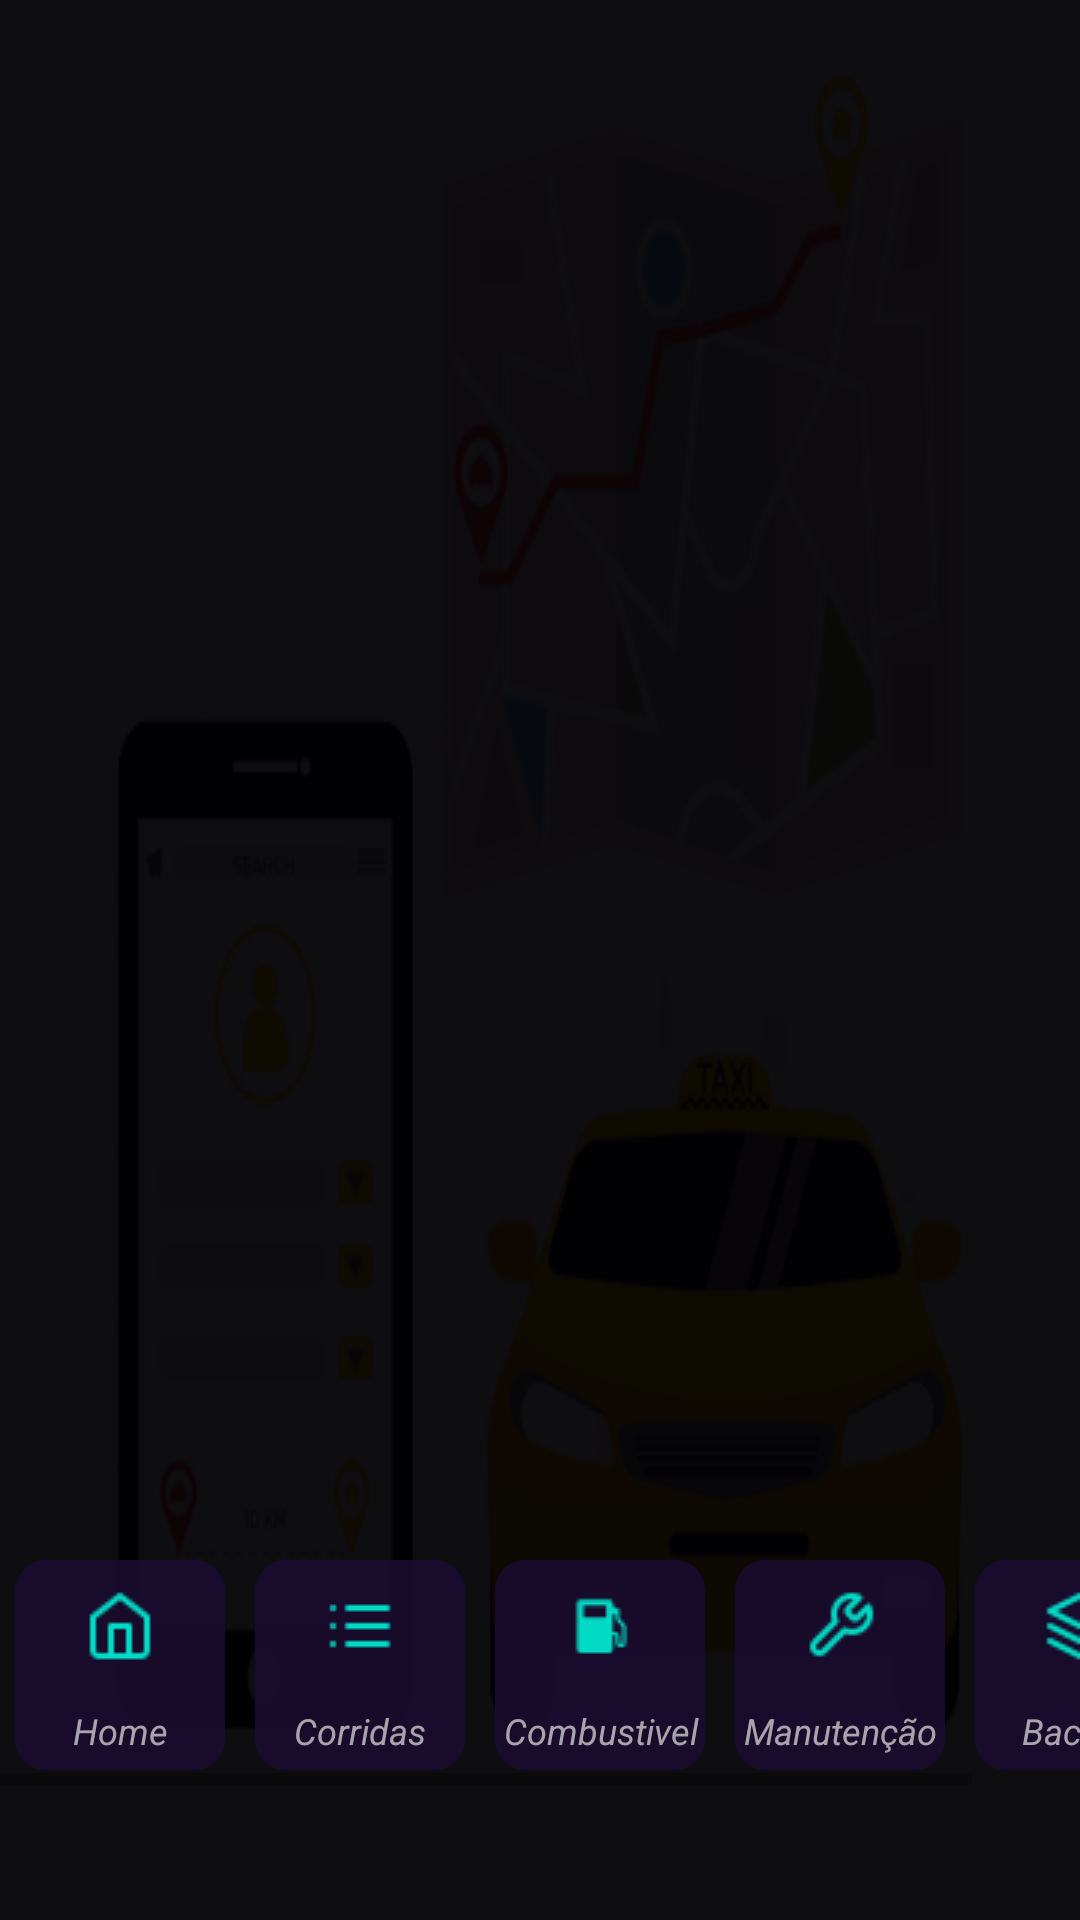

Screen size 1080×1920. Icon name, then its box in pixels as (x1, y1, x2, y2):
list: (255, 1560, 465, 1692)
tool: (735, 1560, 945, 1692)
